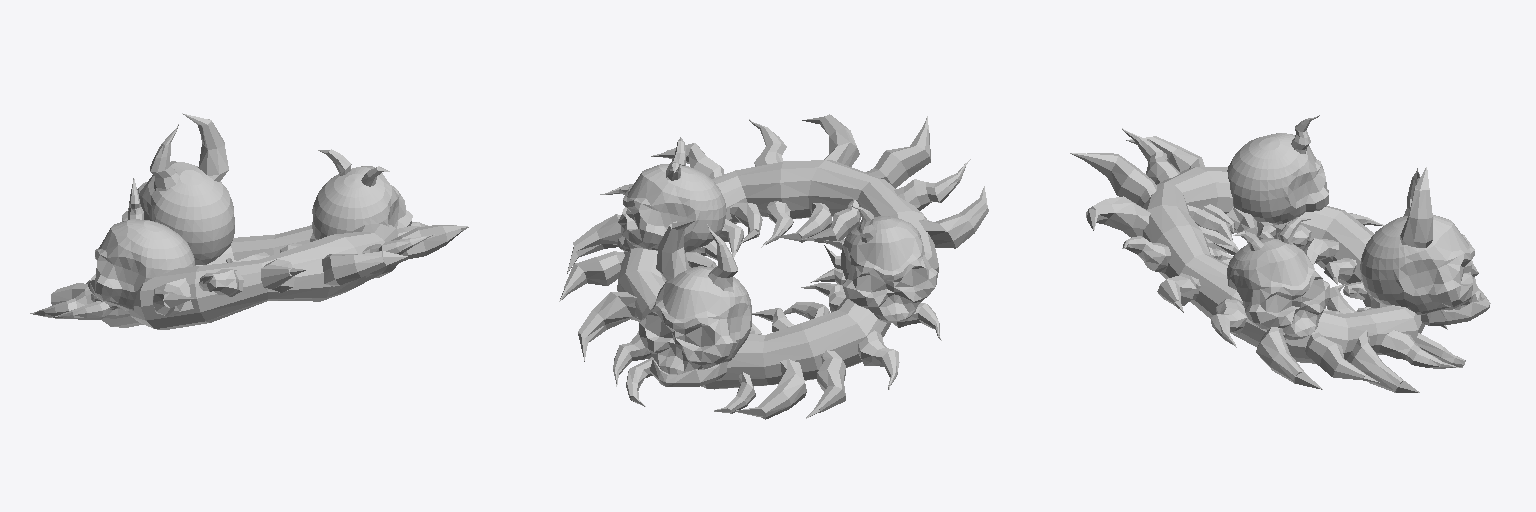
File: CentipedeBoss_0.obj
3 views of the same model, side by side, from view 1: azimuth 30°, elevation 25°; view 2: azimuth 150°, elevation 25°; view 3: azimuth 270°, elevation 25° (orthographic).
Visible parts, largest first — view 1: Torus.001, Sphere.009_Sphere.002, Sphere.011_Sphere.004, Sphere.010_Sphere.003; view 2: Torus.001, Sphere.009_Sphere.002, Sphere.011_Sphere.004, Sphere.010_Sphere.003, Cube.059_Cube.008; view 3: Torus.001, Sphere.009_Sphere.002, Sphere.010_Sphere.003, Sphere.011_Sphere.004, Cube.059_Cube.008.
Boxes of the visible parts, <box> form: Torus.001: <box>30,222,468,329</box>; Sphere.009_Sphere.002: <box>122,113,234,264</box>; Sphere.011_Sphere.004: <box>88,178,195,310</box>; Sphere.010_Sphere.003: <box>312,149,412,240</box>; Torus.001: <box>559,114,988,419</box>; Sphere.009_Sphere.002: <box>639,221,751,374</box>; Sphere.011_Sphere.004: <box>841,205,937,322</box>; Sphere.010_Sphere.003: <box>617,137,726,252</box>; Cube.059_Cube.008: <box>650,358,727,386</box>; Torus.001: <box>1070,128,1465,392</box>; Sphere.009_Sphere.002: <box>1360,167,1481,314</box>; Sphere.010_Sphere.003: <box>1227,217,1329,339</box>; Sphere.011_Sphere.004: <box>1227,115,1328,224</box>; Cube.059_Cube.008: <box>1421,286,1490,325</box>.
Size of the model in its own units: 19.55 by 8.91 by 18.79.